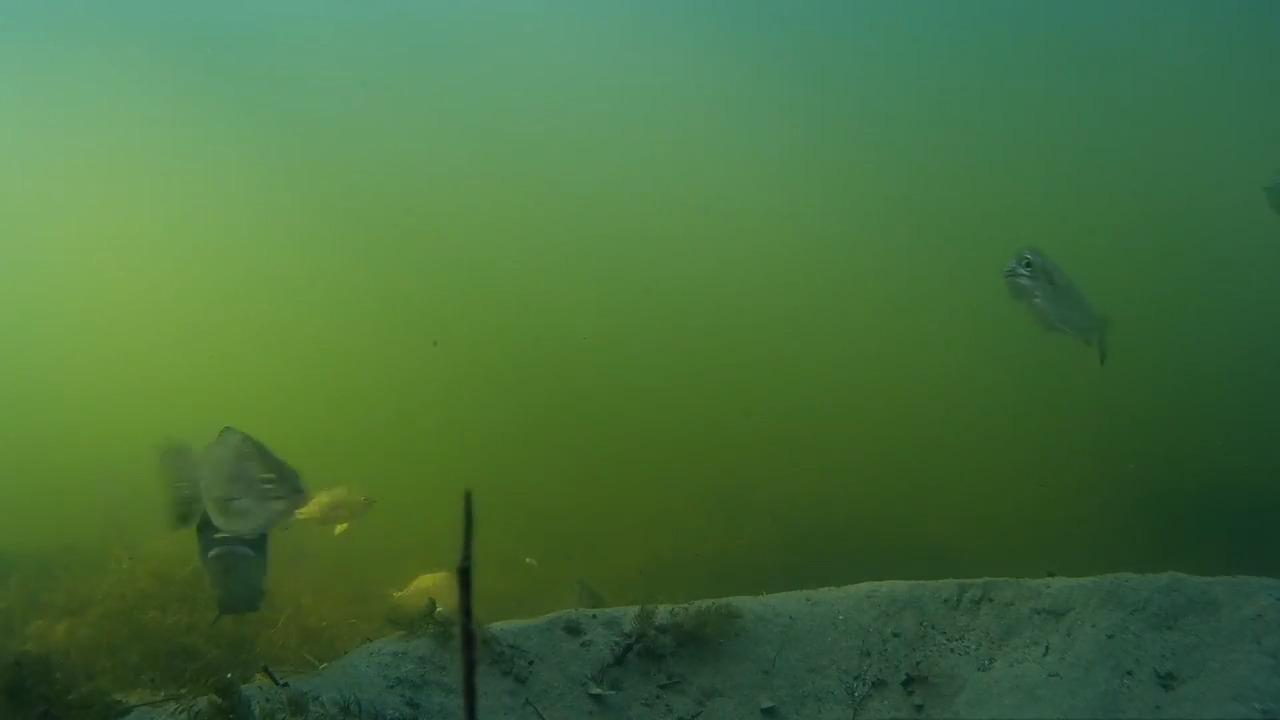Tilapia: (147, 420, 333, 548), (1000, 244, 1119, 388), (379, 562, 480, 648)
